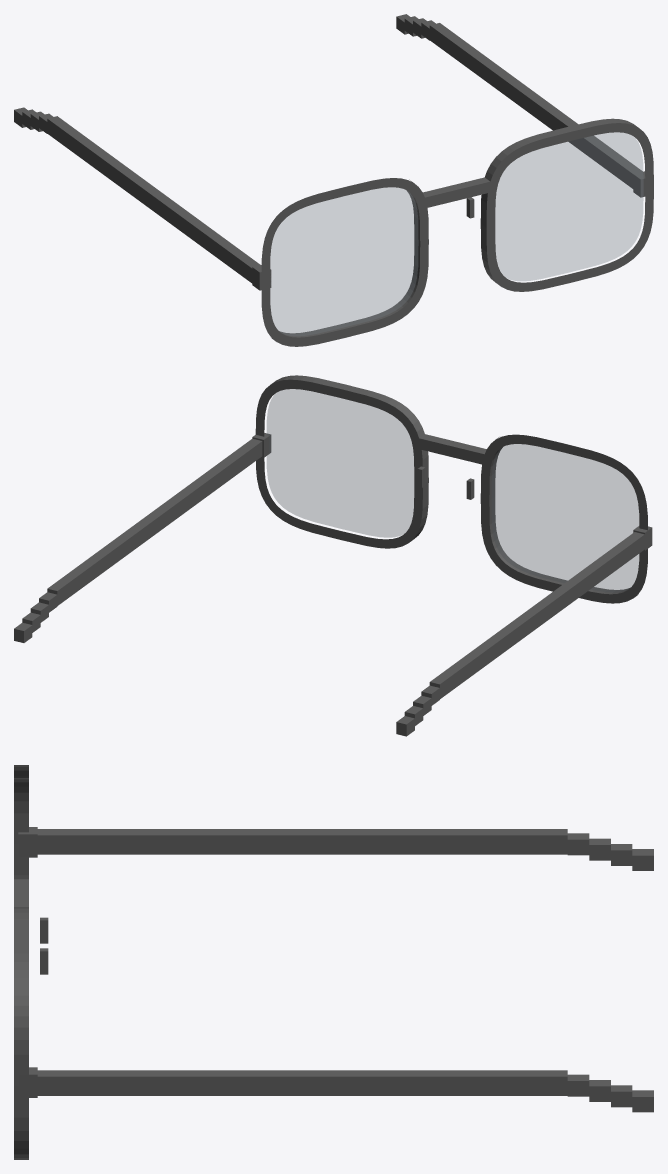
Rendered from p-square.glb.
The picture shows the model from 3 angles, top to bottom: view 1: azimuth 30°, elevation 25°; view 2: azimuth 150°, elevation 25°; view 3: azimuth 270°, elevation 25°; orthographic projection. The views are drawn at different scales.
Visible parts, largest first — view 1: Lens, Frame; view 2: Lens, Frame; view 3: Frame.
Part boxes in pixels (<box>): Lens: <box>270,132,643,335</box>; Frame: <box>14,14,653,346</box>; Lens: <box>267,389,638,592</box>; Frame: <box>14,375,652,736</box>; Frame: <box>14,765,653,1159</box>.
Bounding box in the file's own units: 136 × 50 × 148.
